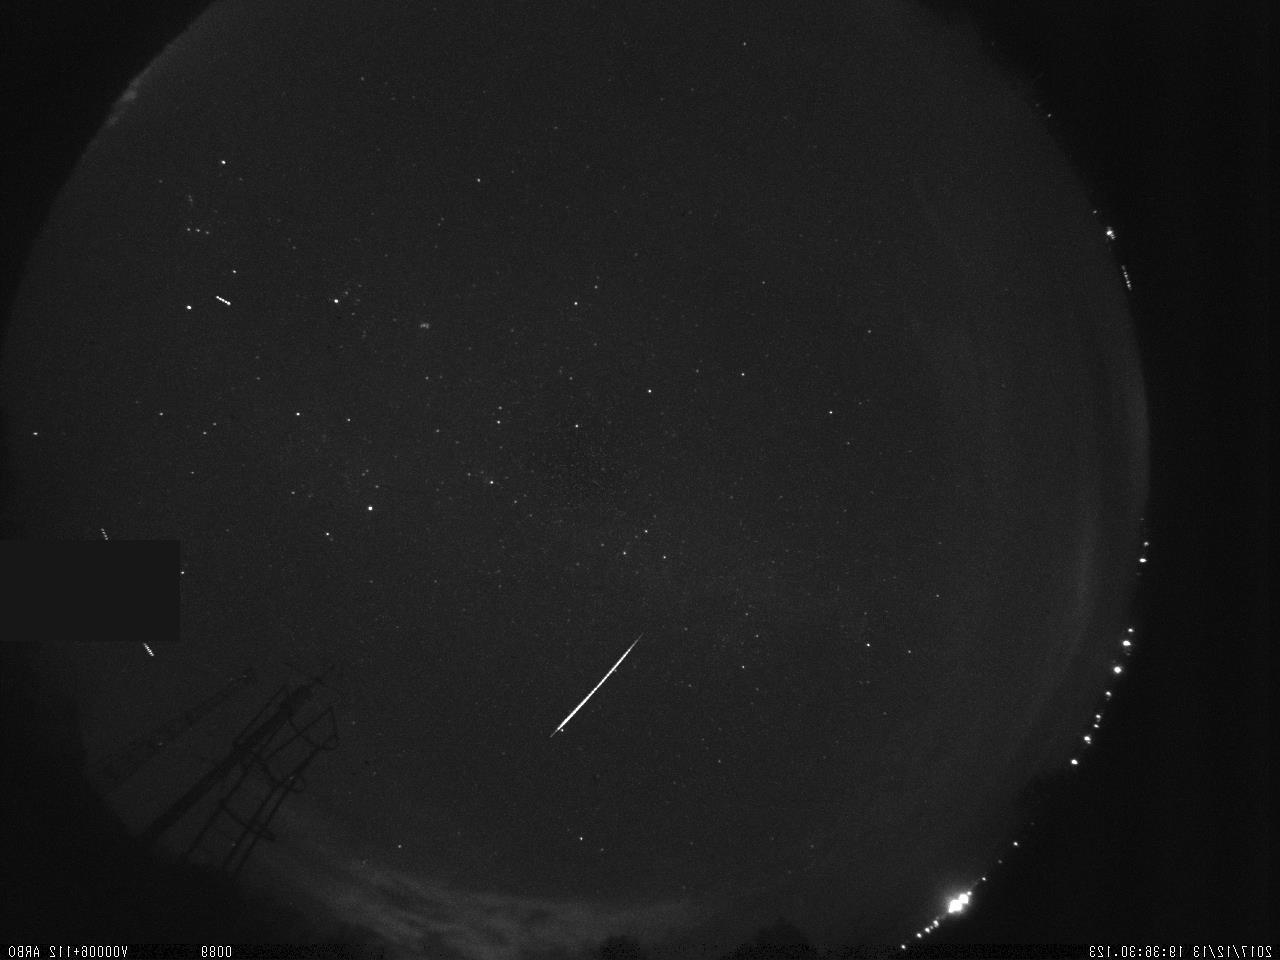meteor: (540, 626, 648, 750)
satelite: (214, 287, 237, 312)
